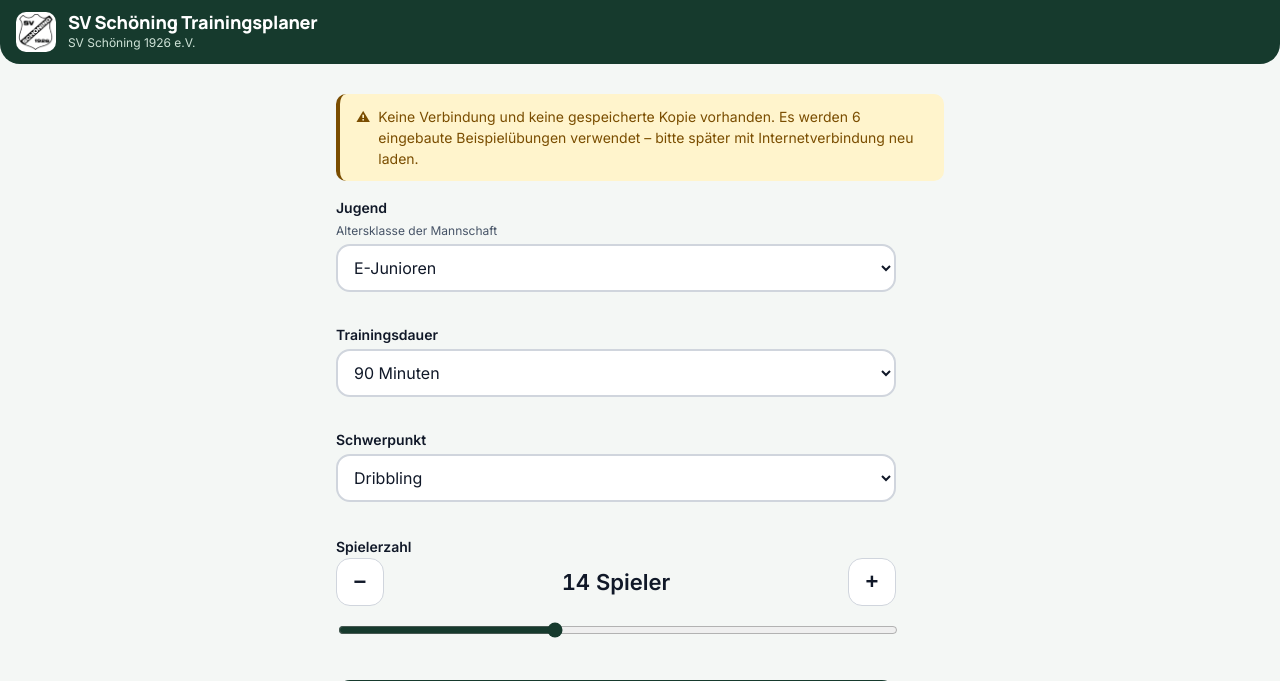
Test: Training erstellen (Integration) › erzeugt sechs aufklappbare Karten mit Diagrammen und Zusammenfassung
Expected: the text "eingebaute Beispielübungen" is shown, 378,129 -> 914,167
Expected: the dropdown labelled "Jugend" is shown, 336,244 -> 896,292
Set the slider to "8": (430, 630) 338,618 -> 898,642
(page scrolled)
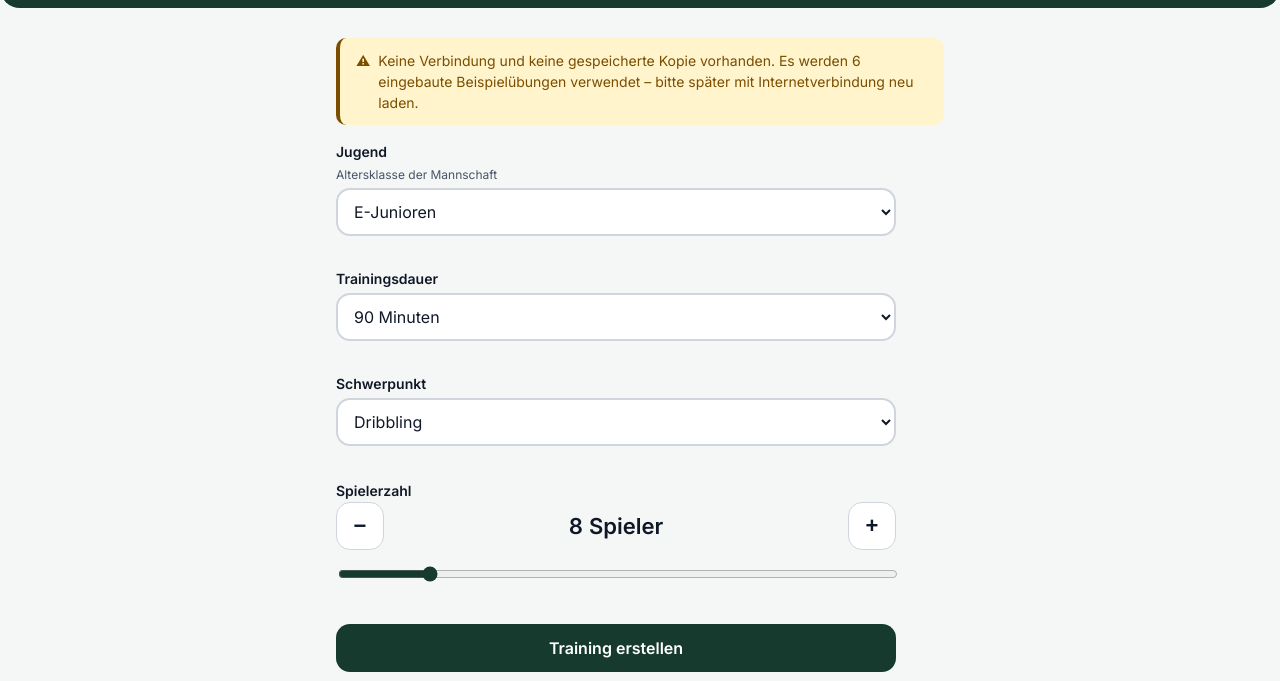
Click the button "Training erstellen": click(616, 648) 336,624 -> 896,672
(page scrolled)
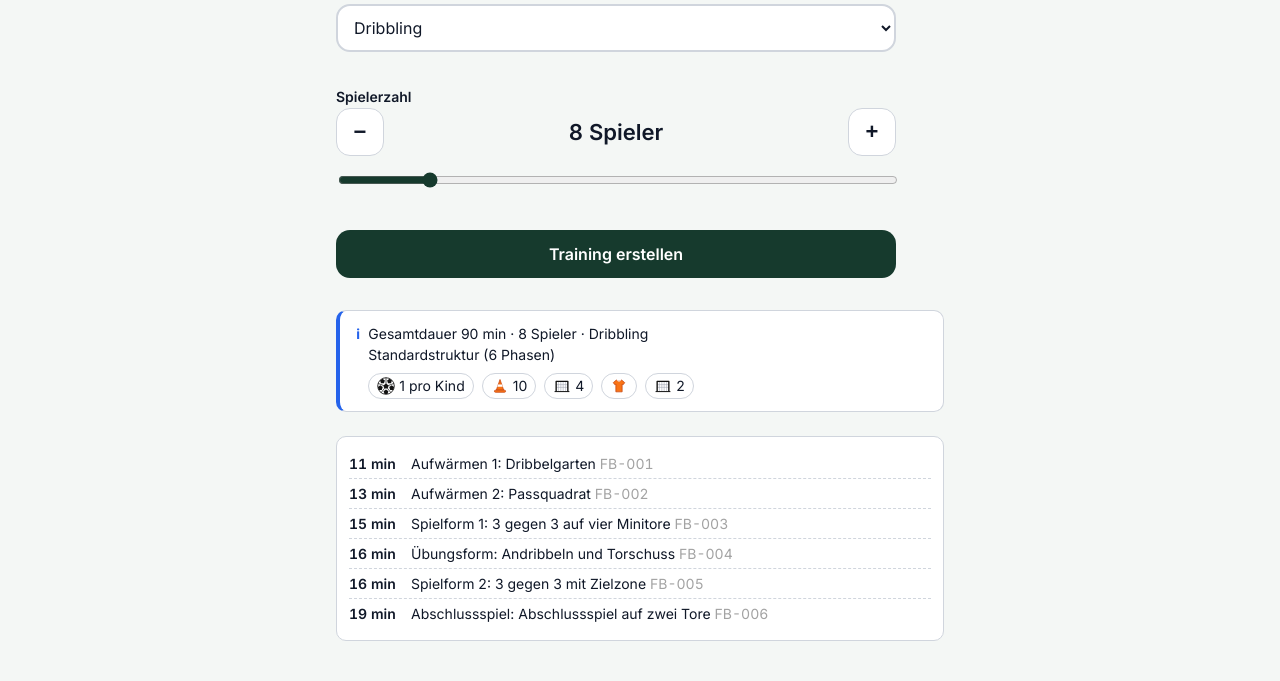
Now the text "Gesamtdauer 90 min" is shown, box 368,323 -> 694,399
